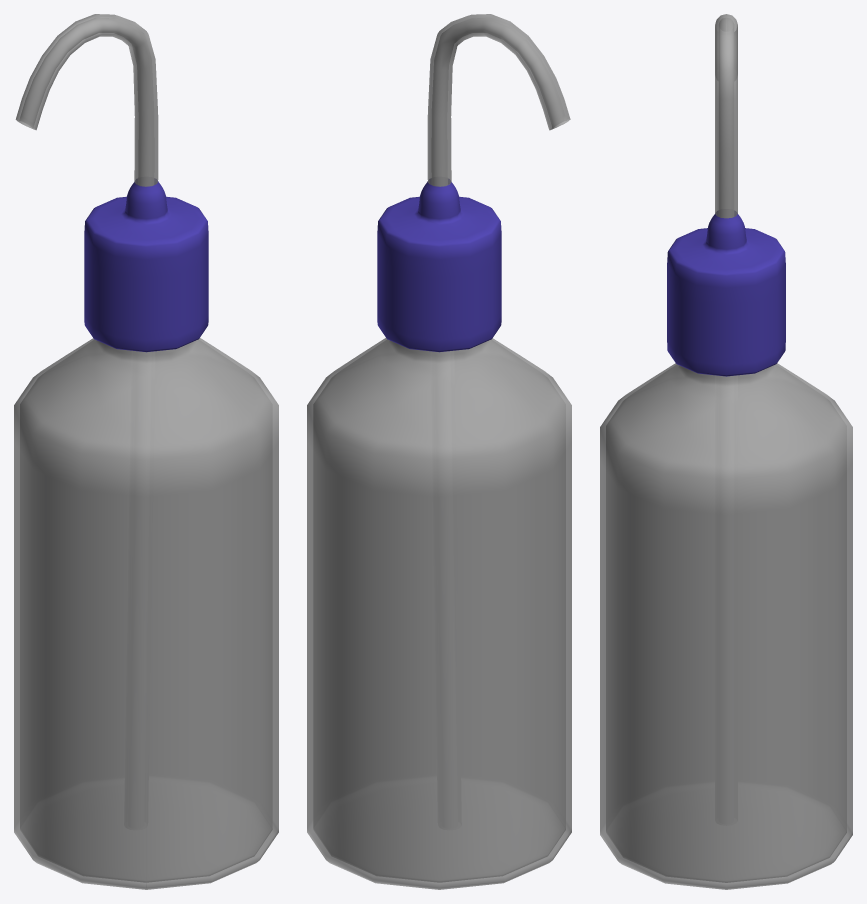
Rendered from Wash_bottle.fbx.
3 views of the same model, side by side, from view 1: azimuth 30°, elevation 25°; view 2: azimuth 150°, elevation 25°; view 3: azimuth 270°, elevation 25° (orthographic). The views are drawn at different scales.
Parts seen in each view (by area): view 1: Plastic, Blue; view 2: Plastic, Blue; view 3: Plastic, Blue.
Boxes of the visible parts, x1,y1,x2,y2 form: Plastic: (14,14,278,889); Blue: (84,179,208,352); Plastic: (307,14,571,889); Blue: (377,179,501,352); Plastic: (600,14,852,889); Blue: (667,211,785,376).
Bounding box in the file's own units: 0.0524 × 0.1722 × 0.0495.
